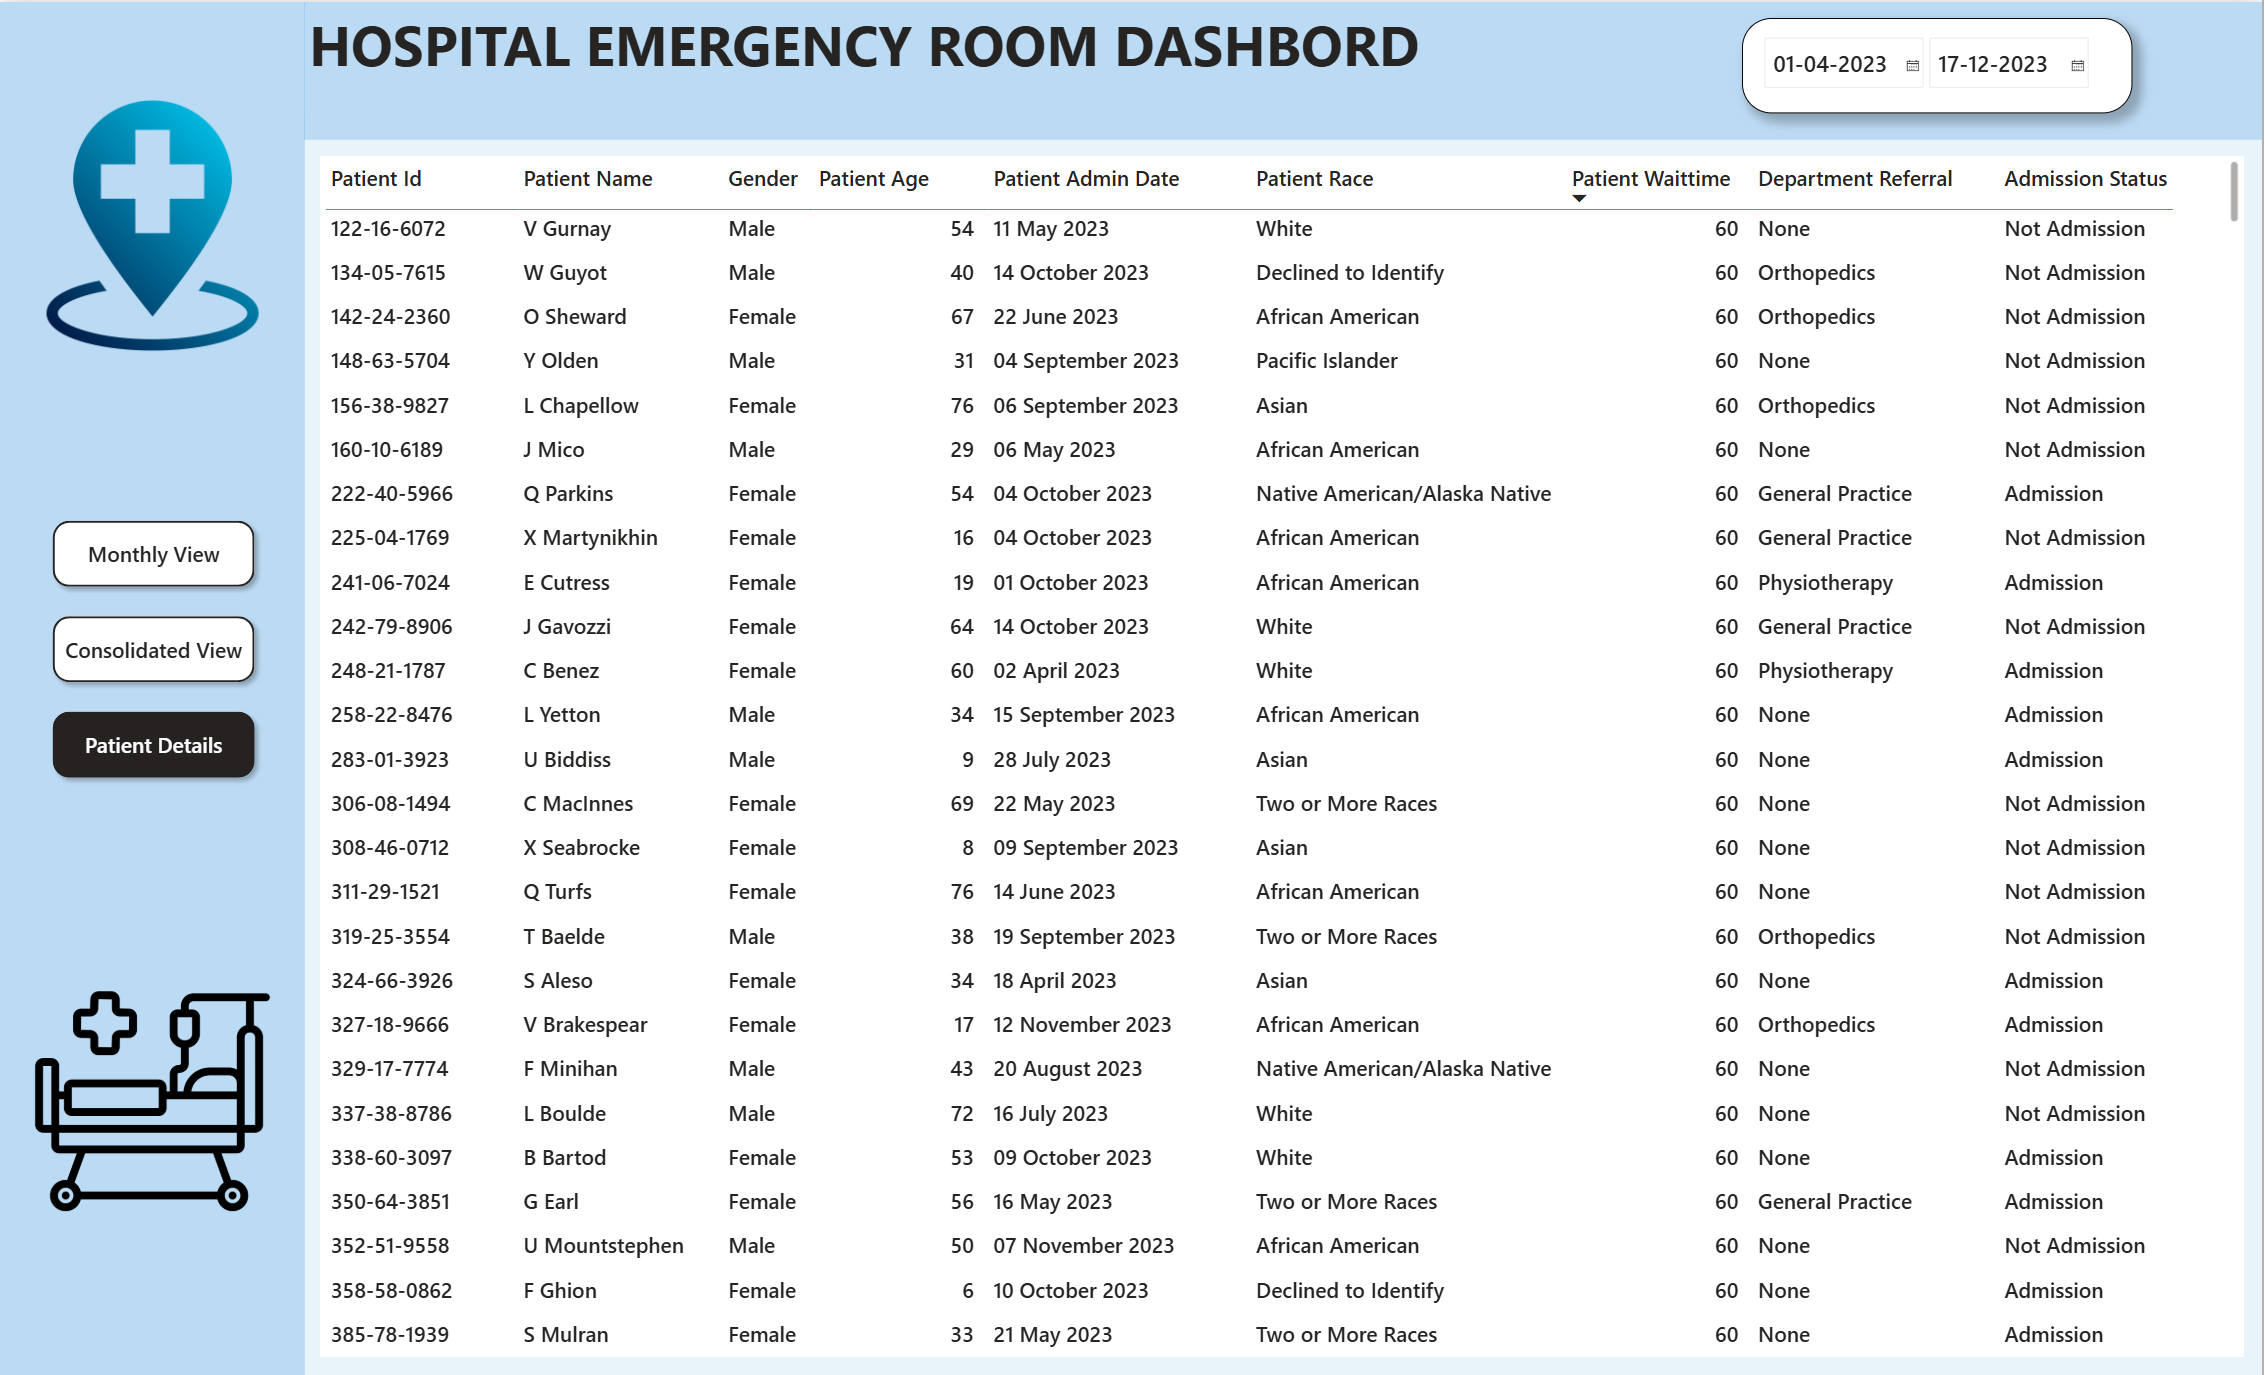

The dashboard page shown, as its layout file describes it:
{"tool":"powerbi","page":{"name":"Patient Details","canvas":[2300,1400],"ordinal":2},"visuals":[{"type":"shape","box":[0,0,310,1400],"z":0},{"type":"shape","box":[309.1,0,1992.9,140],"z":1000},{"type":"textbox","box":[309.9,0,1990.1,92],"z":2000},{"type":"slicer","fields":{"Values":["Date.Date"]},"box":[1772.2,16.9,397.1,96.8],"z":3000},{"type":"image","box":[22.9,91.7,265.5,271.2],"z":4000},{"type":"tableEx","fields":{"Values":["Hospital ER_Data.Patient Id","Hospital ER_Data.Patient Full Name","Hospital ER_Data.Patient Gender","Hospital ER_Data.Patient Age","Hospital ER_Data.Patient Admin Date","Hospital ER_Data.Patient Race","Hospital ER_Data.Patient Waittime","Hospital ER_Data.Department Referral","Hospital ER_Data.Admission Status"]},"box":[326.3,156.5,1955.8,1220.4],"z":5000},{"type":"pageNavigator","box":[43.9,517.6,223.5,280.8],"z":5001},{"type":"image","box":[22.9,968.3,265.5,299.9],"z":5002}]}

Visuals, with their boxes in screenshot pixels (x1, y1, x2, y2), scaled from the page's 2300x1400 canvas onto the 2265x1375 screenshot:
shape: {"left": 0, "top": 0, "right": 305, "bottom": 1374}
shape: {"left": 304, "top": 0, "right": 2264, "bottom": 138}
textbox: {"left": 305, "top": 0, "right": 2264, "bottom": 90}
slicer - Date.Date: {"left": 1745, "top": 17, "right": 2136, "bottom": 112}
image: {"left": 23, "top": 90, "right": 284, "bottom": 356}
tableEx - Hospital ER_Data.Patient Id x Hospital ER_Data.Patient Full Name: {"left": 321, "top": 154, "right": 2247, "bottom": 1352}
pageNavigator: {"left": 43, "top": 508, "right": 263, "bottom": 784}
image: {"left": 23, "top": 951, "right": 284, "bottom": 1246}
